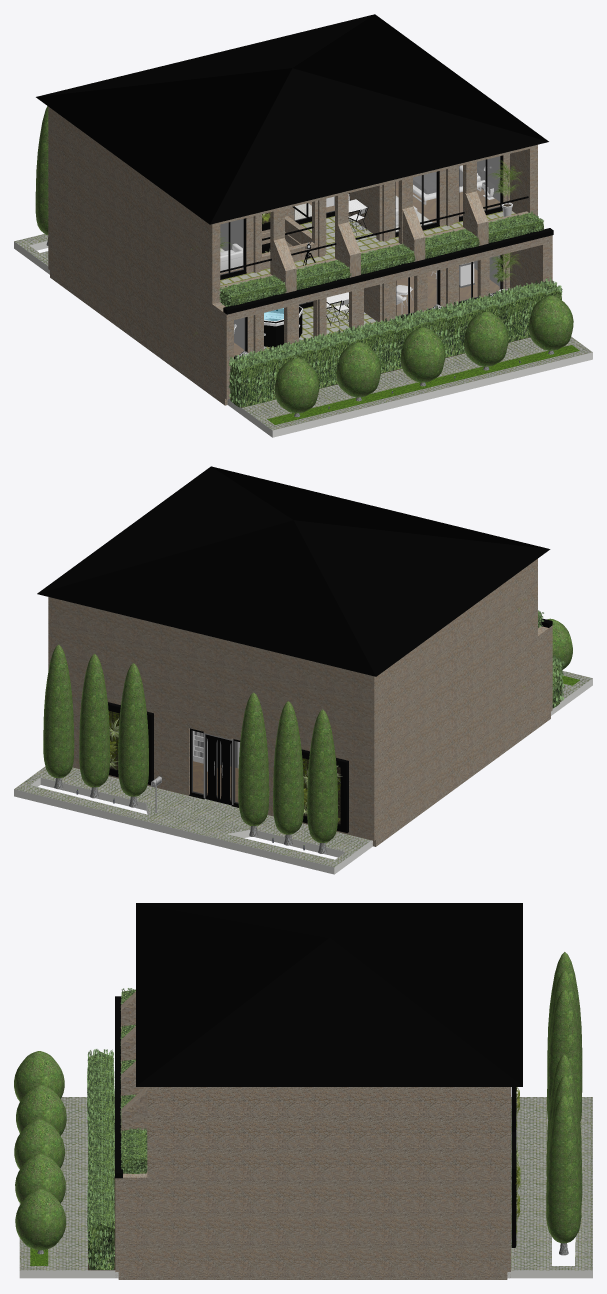
3 views of the same model, one above another, from view 1: azimuth 30°, elevation 25°; view 2: azimuth 150°, elevation 25°; view 3: azimuth 270°, elevation 25° (orthographic). The views are drawn at different scales.
Visible parts, largest first — view 1: Object_67, Object_88, Object_9, Object_28, Object_8, Object_51, Object_78, Object_86, Object_2, Object_77, Object_53, Object_6 (+3 smaller); view 2: Object_67, Object_88, Object_28, Object_78, Object_2, Object_50, Object_64, Object_76, Object_54, Object_29; view 3: Object_88, Object_67, Object_28, Object_78, Object_9, Object_8, Object_86, Object_2.
Boxes of the visible parts, x1,y1,x2,y2 form: Object_67: (36,14,553,359); Object_88: (48,107,552,405); Object_9: (220,213,561,407); Object_28: (35,106,573,413); Object_8: (219,211,562,407); Object_51: (220,156,500,356); Object_78: (14,234,592,430); Object_86: (273,191,488,293); Object_2: (14,241,592,437); Object_77: (220,211,515,350); Object_53: (267,345,579,424); Object_6: (220,165,485,335); Object_67: (37,466,552,833); Object_88: (48,559,552,846); Object_28: (43,618,572,843); Object_78: (14,671,592,867); Object_2: (14,678,592,874); Object_50: (192,731,239,803); Object_64: (108,711,340,817); Object_76: (193,761,238,801); Object_54: (151,732,233,812); Object_29: (54,778,327,853); Object_88: (115,1087,510,1279); Object_67: (115,903,522,1247); Object_28: (14,952,582,1250); Object_78: (19,1097,592,1270); Object_9: (87,989,147,1269); Object_8: (87,988,147,1268); Object_86: (121,991,147,1135); Object_2: (19,1270,592,1278).
Size of the model in its own units: 12.34 by 7.94 by 16.43.
99 materials, 41 textured.
